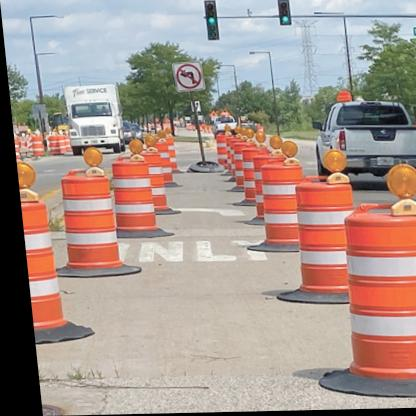obstacle: (324, 204, 416, 385), (50, 175, 119, 271), (283, 184, 343, 294), (104, 156, 159, 233)
